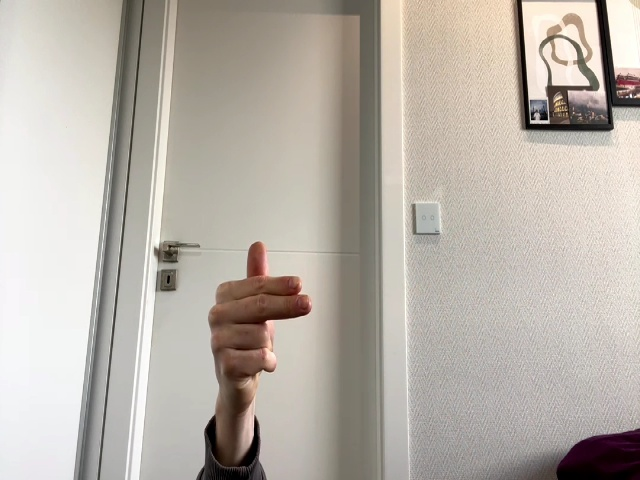N: (208, 242, 311, 381)
